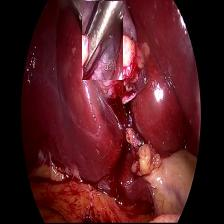Grasper: (82, 1, 123, 80)
